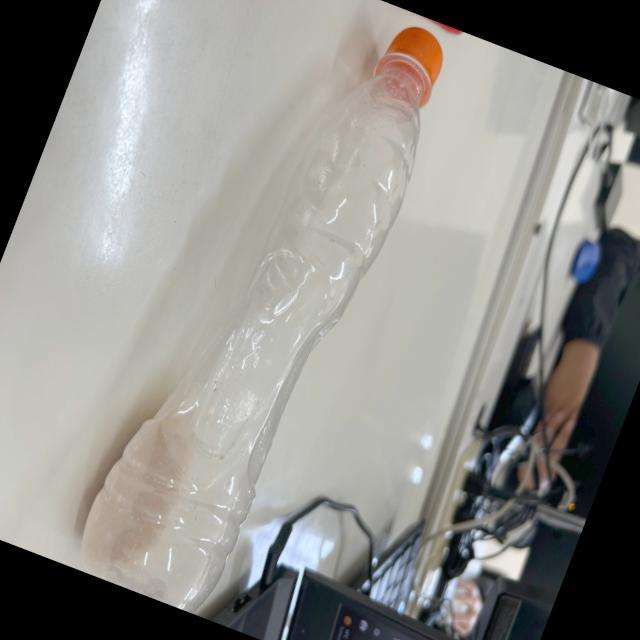inorganic: (64, 0, 468, 632)
